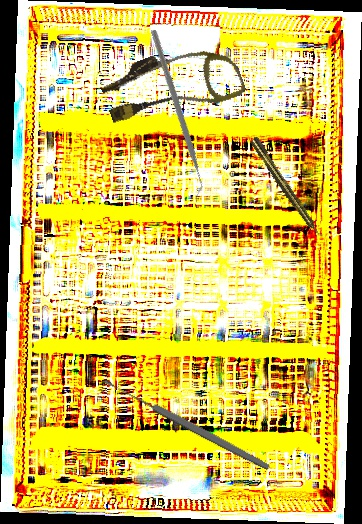Cannula: (96, 29, 248, 140)
Chopper: (85, 28, 264, 201)
Handpiece: (248, 135, 325, 241)
Surgical Spoon: (101, 375, 272, 473)
